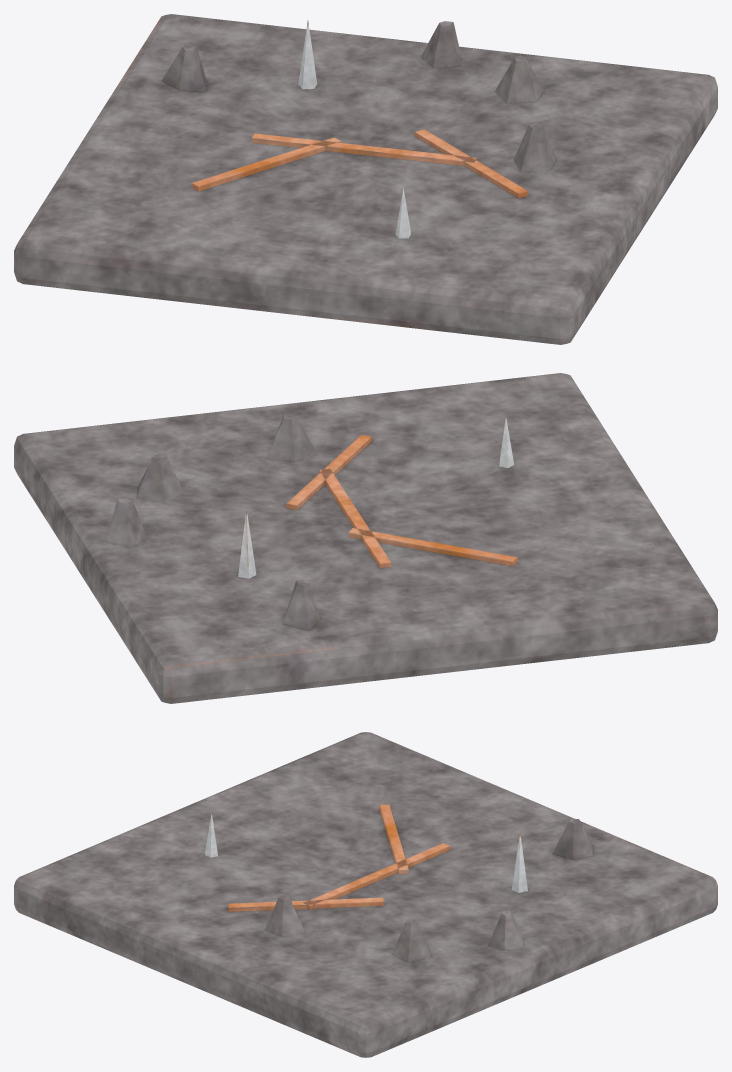
File: horda_plains.glb
The picture shows the model from 3 angles, top to bottom: view 1: azimuth 30°, elevation 25°; view 2: azimuth 150°, elevation 25°; view 3: azimuth 270°, elevation 25°; orthographic projection. The views are drawn at different scales.
Visible parts, largest first — view 1: dilek; view 2: dilek; view 3: dilek.
Boxes of the visible parts, <box> form: dilek: <box>14,14,717,344</box>; dilek: <box>14,373,717,703</box>; dilek: <box>14,732,717,1057</box>.
Size of the model in its own units: 2.42 by 0.36 by 2.42.
Materials: 1 (1 with a texture image).
